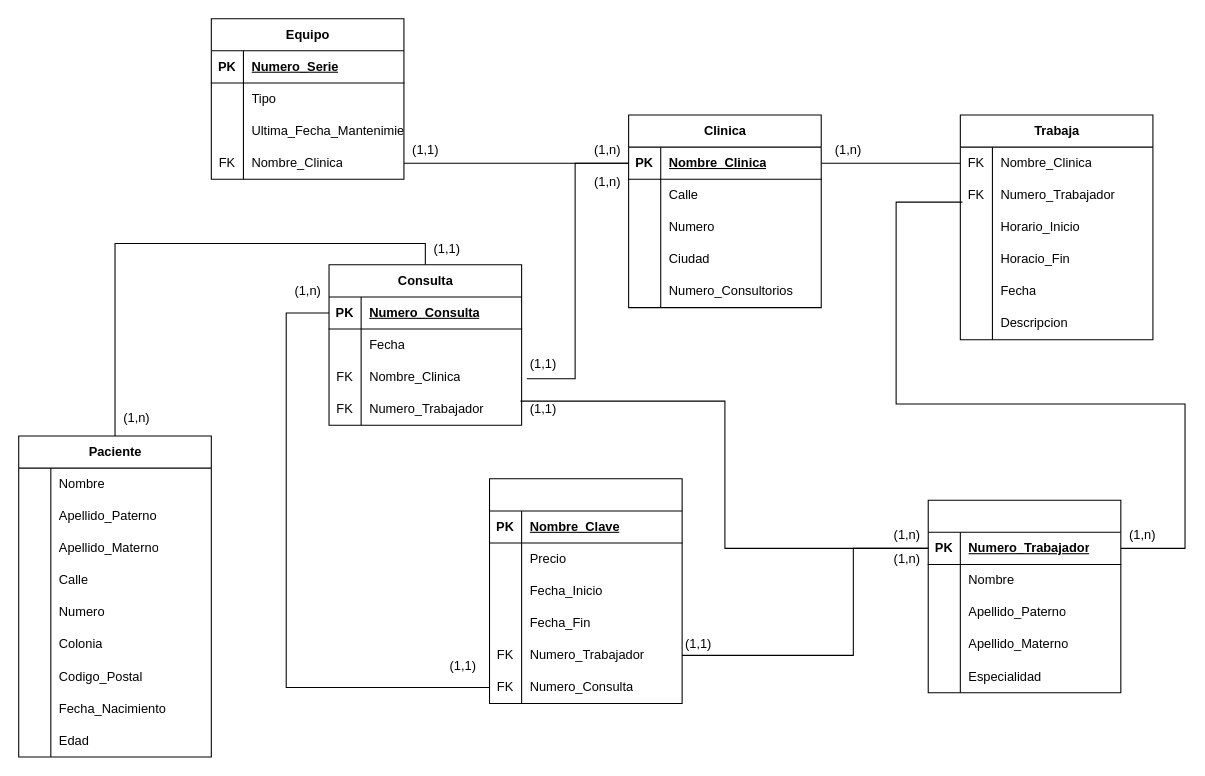
Image size: 1205x776. Some labels were removed from this diagram. The shapes that lost their labels are listed below. From the top down, each one's box as (x1, y1, x2, y2) in pixels, then its label:
(488, 478, 682, 704): Tratamiento
(927, 499, 1121, 693): Odontologo
